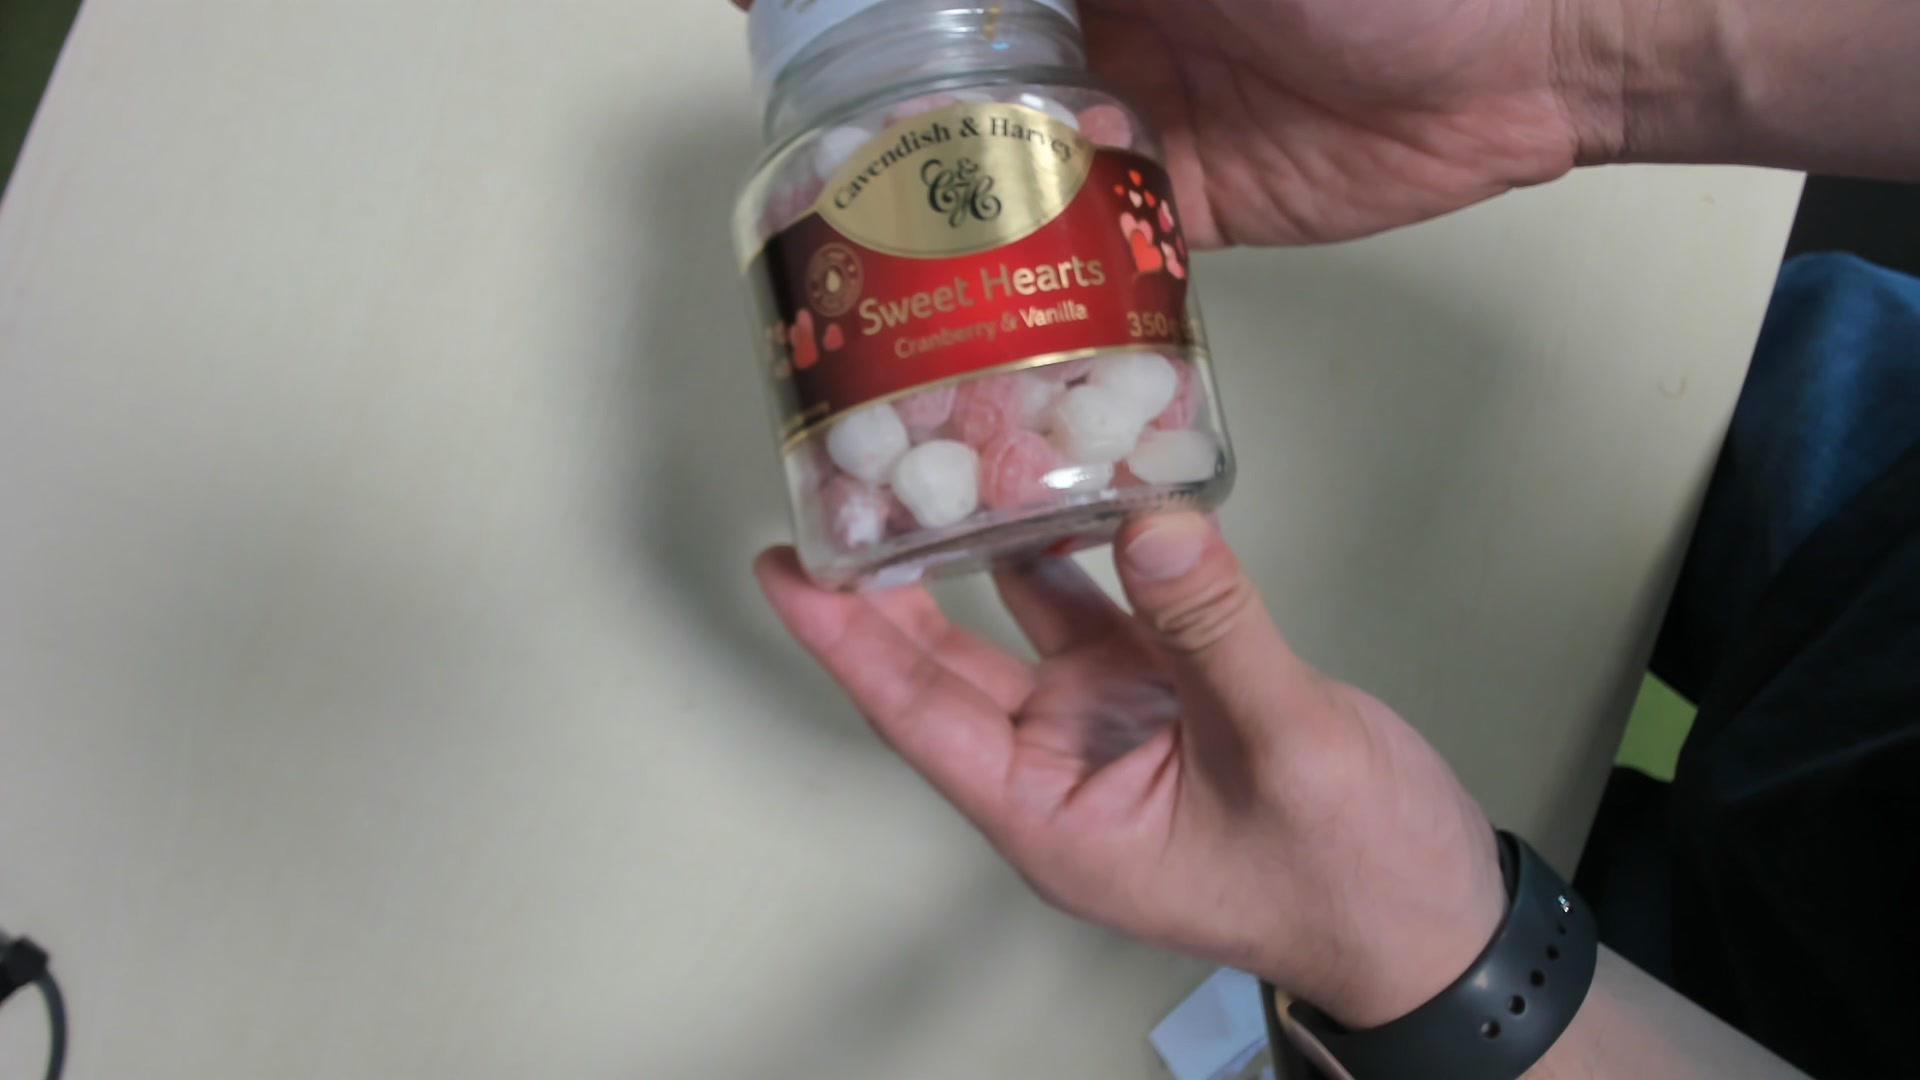SweetsChocolatesOthers_300-399g_NonHalal_Nonhealthy: (736, 3, 1237, 608)
